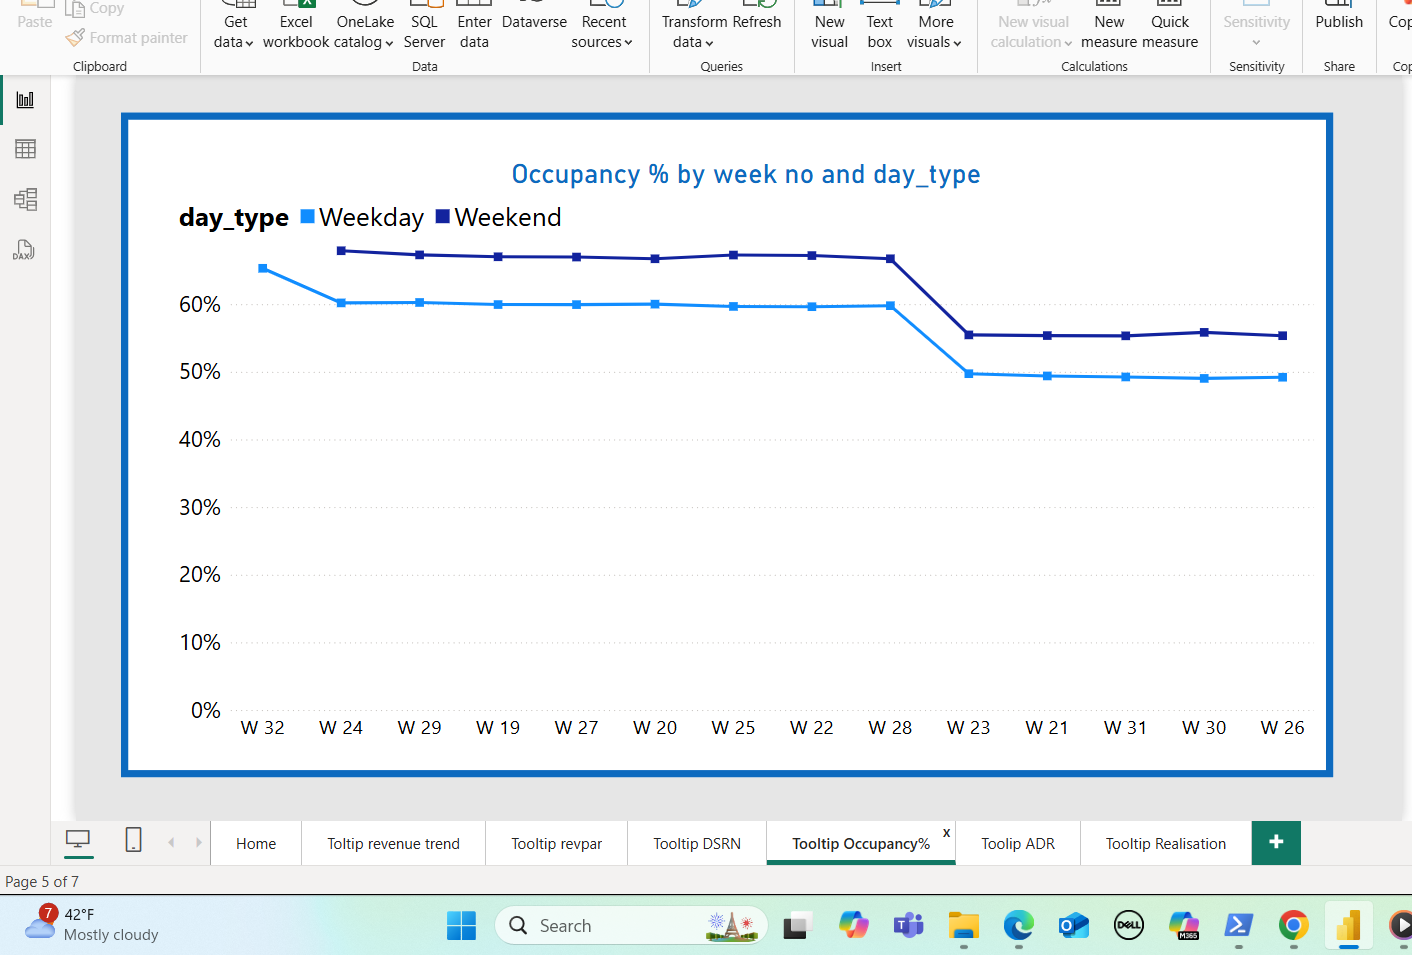

What the dashboard file says about the page in this screenshot:
{"tool":"powerbi","page":{"name":"Tooltip Occupancy%","canvas":[1280,720],"ordinal":4},"visuals":[{"type":"shape","box":[43.3,36.7,1170,641.7],"z":0},{"type":"lineChart","fields":{"Y":["key_measure.Occupancy %"],"Category":["dim_date.week no"],"Series":["dim_date.day_type"]},"box":[94.7,79.6,1106,572.2],"z":1000}]}

Visuals, with their boxes on the page's 1280x720 design canvas (x1, y1, x2, y2). These are canvas units, not pixel positions in the 1412x955 screenshot, which may show the page scaled, cropped or inside an application window:
shape: bbox=[43, 37, 1213, 678]
lineChart - key_measure.Occupancy % x dim_date.week no: bbox=[95, 80, 1201, 652]
